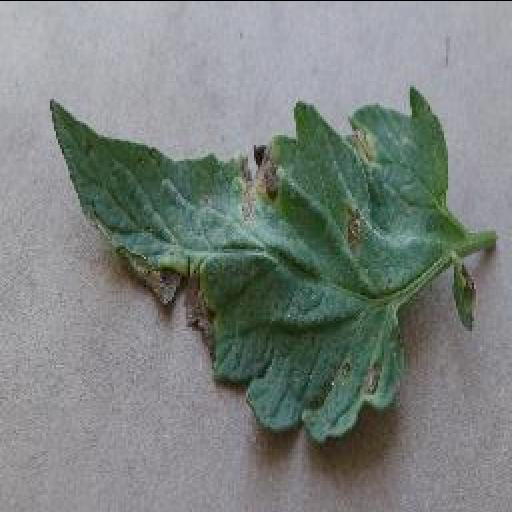disease_tomato: (46, 81, 450, 454)
